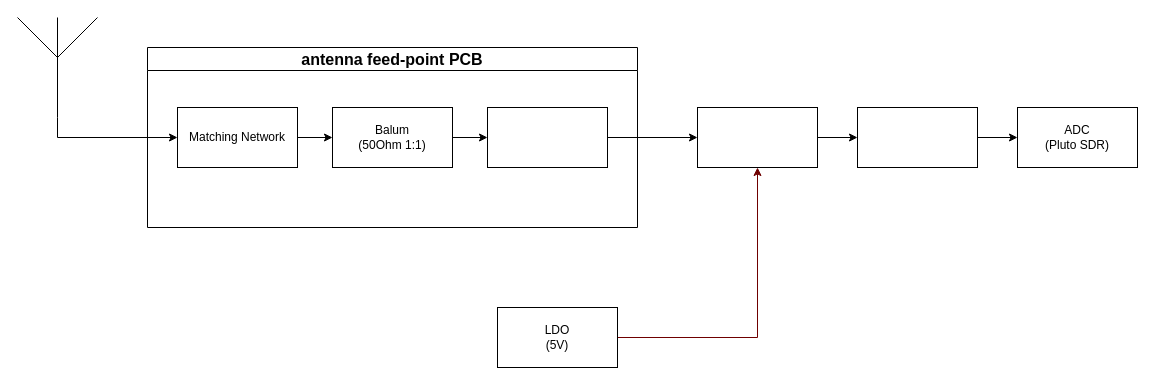
Image size: 1155x385. Some labels were removed from this diagram. The centre of each missing label's shape, as x and y in pixels:
3rd Order LC Filter (~50MHz BW): [547,137]
LNA (20dB): [757,137]
SAW Filter (10~20MHz BW): [917,137]
